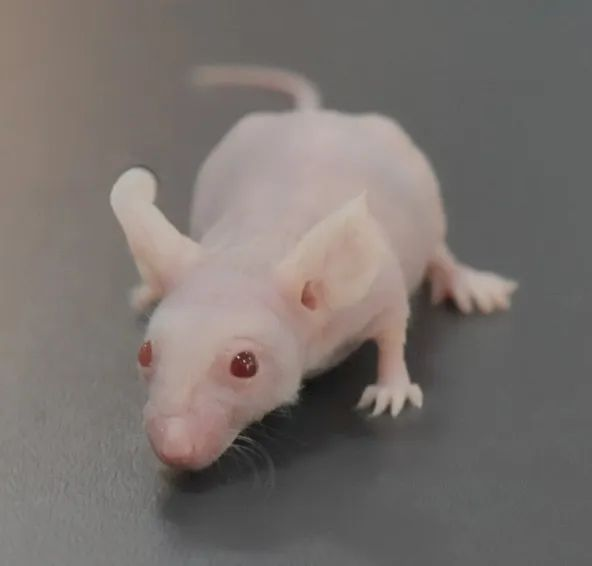mouse: (88, 83, 515, 485)
